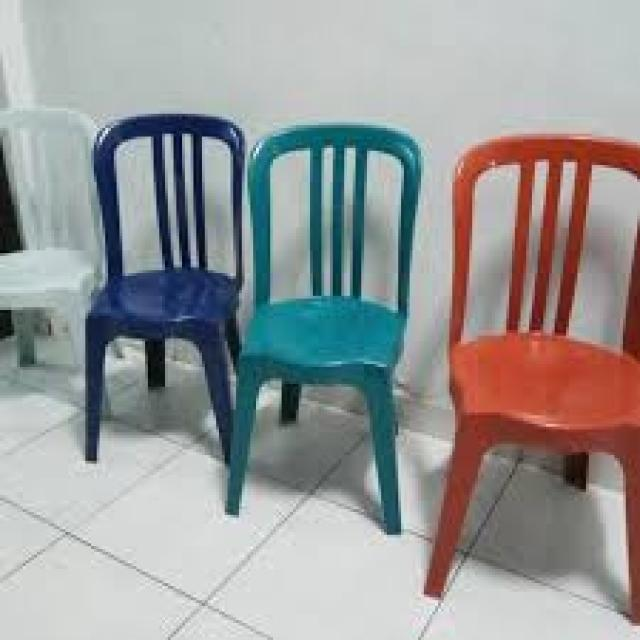chair: (423, 128, 640, 620), (226, 119, 423, 538), (82, 113, 243, 465), (2, 106, 125, 424)
